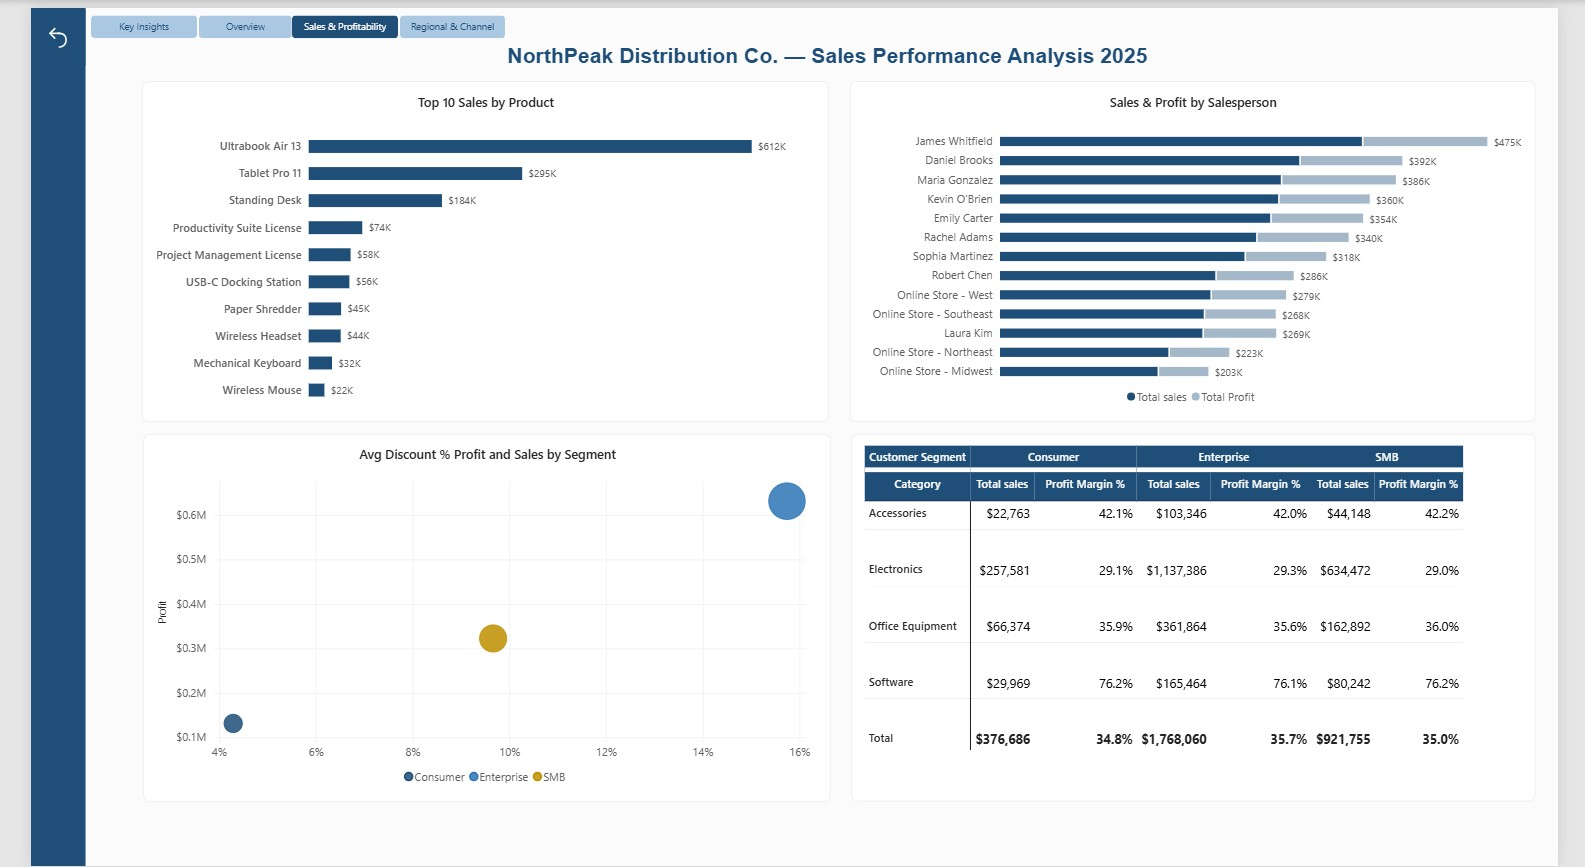

The dashboard page shown, as its layout file describes it:
{"tool":"powerbi","page":{"name":"Sales & Profitability","canvas":[1920,1080],"ordinal":2},"visuals":[{"type":"barChart","title":"Top 10 Sales by Product","fields":{"Category":["Sales_Data.Product"],"Y":["Measure Table.Total sales"]},"box":[140,92.9,864,428],"z":0},{"type":"scatterChart","title":"Avg Discount % Profit and Sales by Segment","fields":{"X":["Measure Table.Average Discount %"],"Y":["Measure Table.Total Profit"],"Size":["Measure Table.Total sales"],"Series":["Sales_Data.Customer Segment"]},"box":[141,536.1,864.3,462.9],"z":1000},{"type":"pivotTable","fields":{"Values":["Measure Table.Total sales","Measure Table.Profit Margin %"],"Rows":["Sales_Data.Category"],"Columns":["Sales_Data.Customer Segment"]},"box":[1032,536,860,462],"z":2000},{"type":"barChart","title":"Sales & Profit by Salesperson","fields":{"Category":["Sales_Data.Salesperson"],"Y":["Measure Table.Total sales","Measure Table.Total Profit"]},"box":[1030,92.9,862,428],"z":3000},{"type":"shape","box":[0,0,68.3,1080],"z":4000},{"type":"actionButton","box":[0,1.4,68.6,70],"z":5000},{"type":"textbox","box":[387.5,45,1230,35],"z":6000},{"type":"actionButton","box":[210.4,8.7,116.7,28.7],"z":7000},{"type":"actionButton","box":[463.4,8.7,132,28.7],"z":8000},{"type":"actionButton","box":[328.6,8.7,133.3,28.7],"z":9000},{"type":"actionButton","box":[75.7,8.7,133.3,28.3],"z":14000}]}

Visuals, with their boxes on the page's 1920x1080 design canvas (x1, y1, x2, y2). These are canvas units, not pixel positions in the 1585x867 screenshot, which may show the page scaled, cropped or inside an application window:
"Top 10 Sales by Product" barChart: (140,93,1004,521)
"Avg Discount % Profit and Sales by Segment" scatterChart: (141,536,1005,999)
pivotTable - Measure Table.Total sales x Measure Table.Profit Margin %: (1032,536,1892,998)
"Sales & Profit by Salesperson" barChart: (1030,93,1892,521)
shape: (0,0,68,1080)
actionButton: (0,1,69,71)
textbox: (388,45,1618,80)
actionButton: (210,9,327,37)
actionButton: (463,9,595,37)
actionButton: (329,9,462,37)
actionButton: (76,9,209,37)
